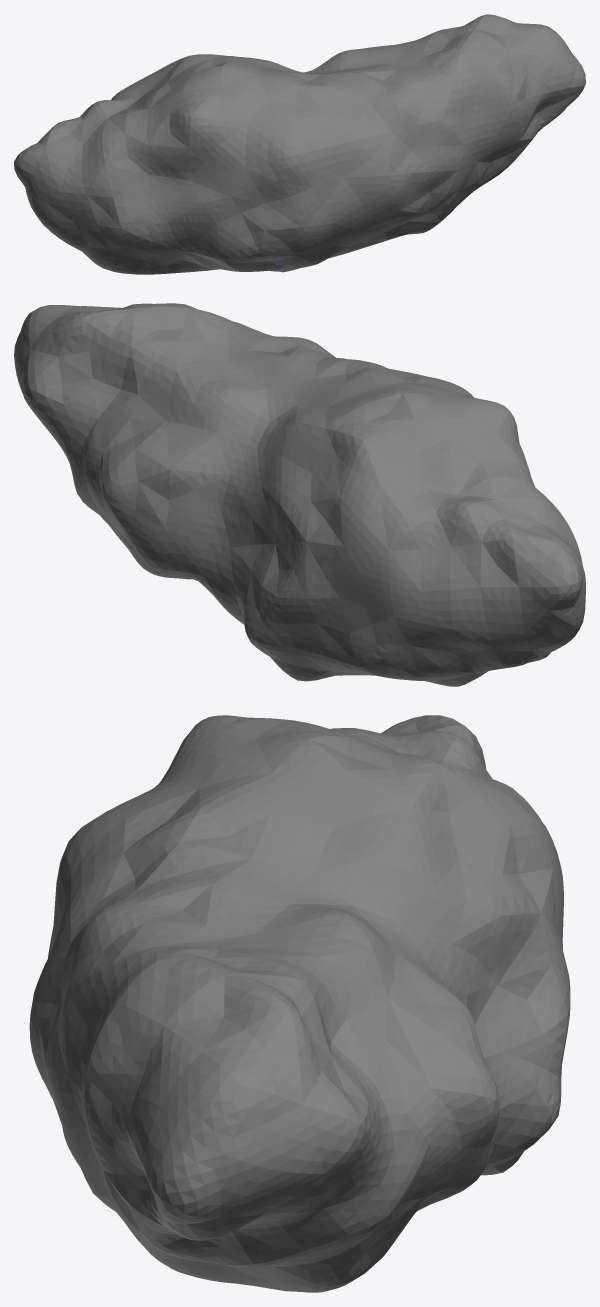
Rendered from Geographos.glb.
3 renders of one model, top to bottom at view 1: azimuth 30°, elevation 25°; view 2: azimuth 150°, elevation 25°; view 3: azimuth 270°, elevation 25°, orthographic. The views are drawn at different scales.
Parts seen in each view (by area): view 1: node_id3; view 2: node_id3; view 3: node_id3.
Boxes of the visible parts, x1,y1,x2,y2 form: node_id3: (14, 14, 585, 274); node_id3: (14, 303, 585, 686); node_id3: (29, 715, 570, 1292).
Size of the model in its own units: 0.4995 by 0.1956 by 0.2325.
Materials: 1 (1 with a texture image).
